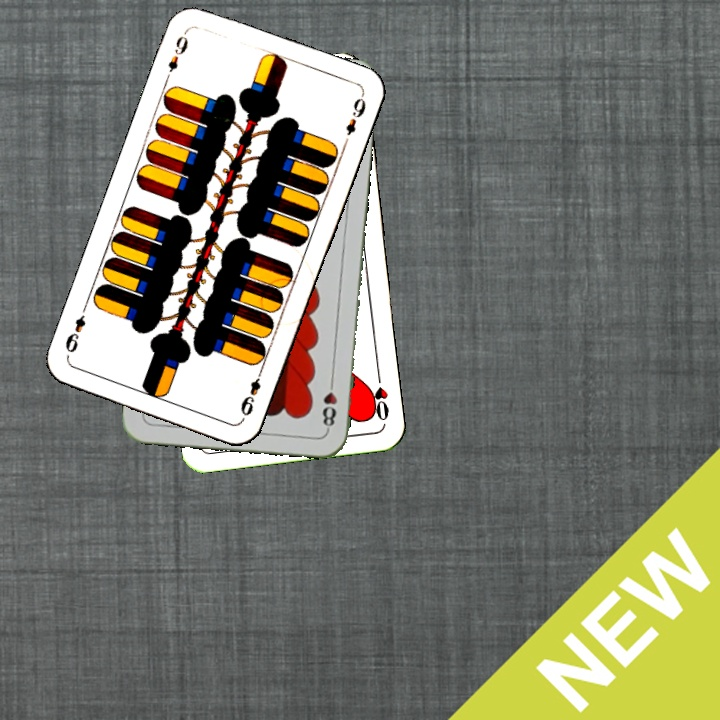E9: (236, 364, 266, 421), (161, 28, 191, 84)
H8: (318, 373, 340, 432)
HO: (369, 366, 392, 424)
